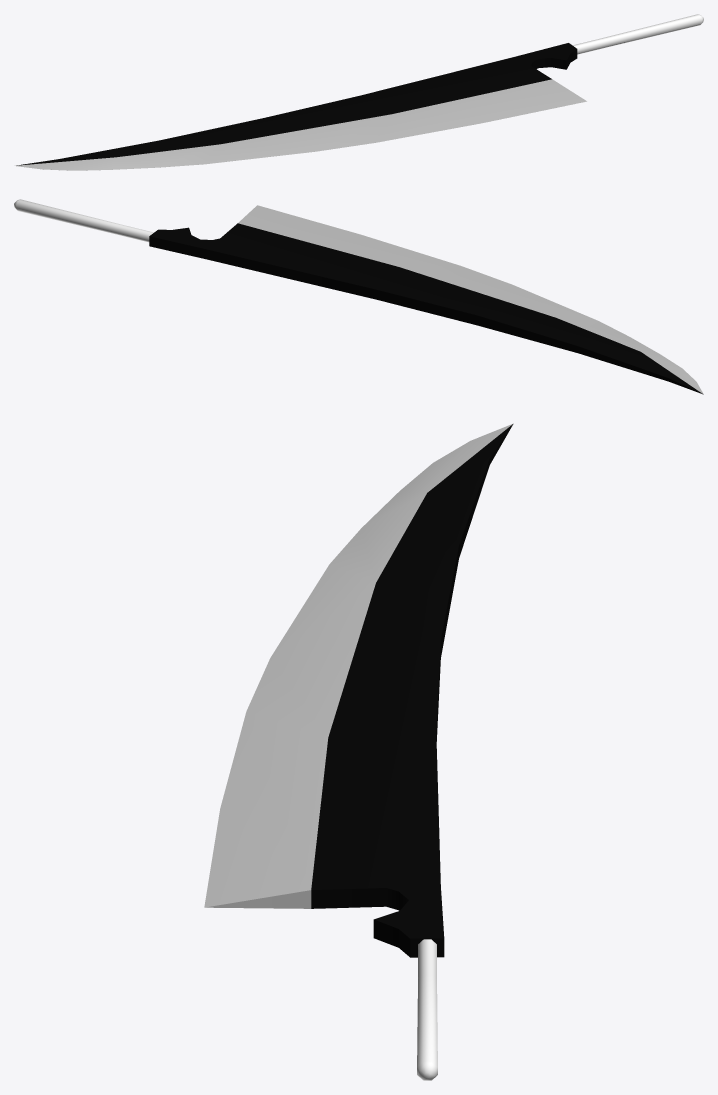
File: Ichigo Sword.fbx
The picture shows the model from 3 angles, top to bottom: view 1: azimuth 30°, elevation 25°; view 2: azimuth 150°, elevation 25°; view 3: azimuth 270°, elevation 25°; orthographic projection. The views are drawn at different scales.
Visible parts, largest first — view 1: Plane; view 2: Plane; view 3: Plane.
Part boxes in pixels (x1=…): Plane: x1=14, y1=14, x2=703, y2=170; Plane: x1=14, y1=199, x2=703, y2=394; Plane: x1=204, y1=423, x2=513, y2=1080.
Size of the model in its own units: 429 by 5.85 by 86.08.
Materials: 1 (1 with a texture image).
